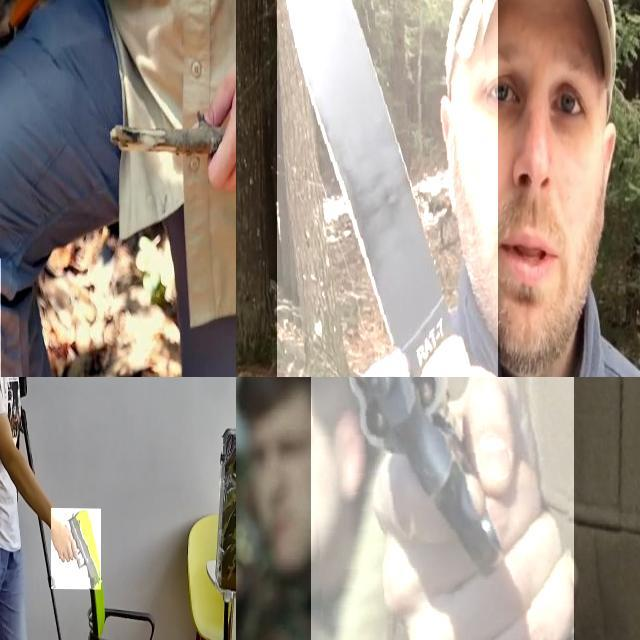-: (277, 0, 498, 377), (0, 255, 82, 377)
gun-knife-thesis - v11 Yolov5 augmented: (311, 377, 573, 640), (52, 507, 102, 588)
